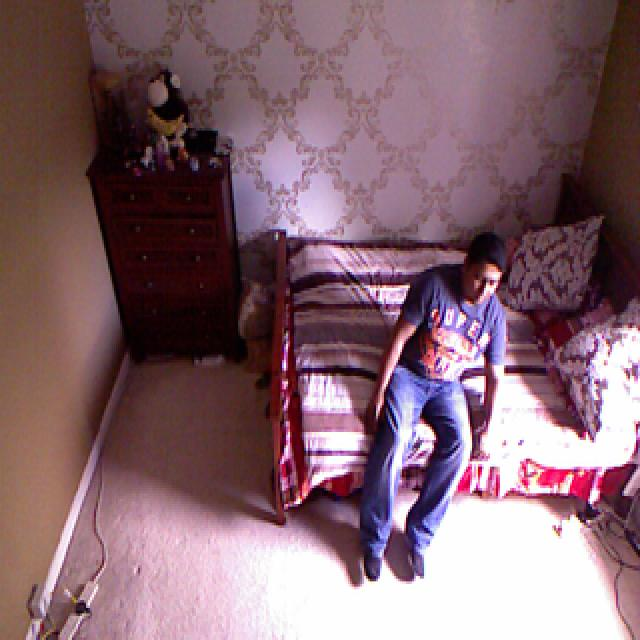sitting: (356, 235, 512, 586)
